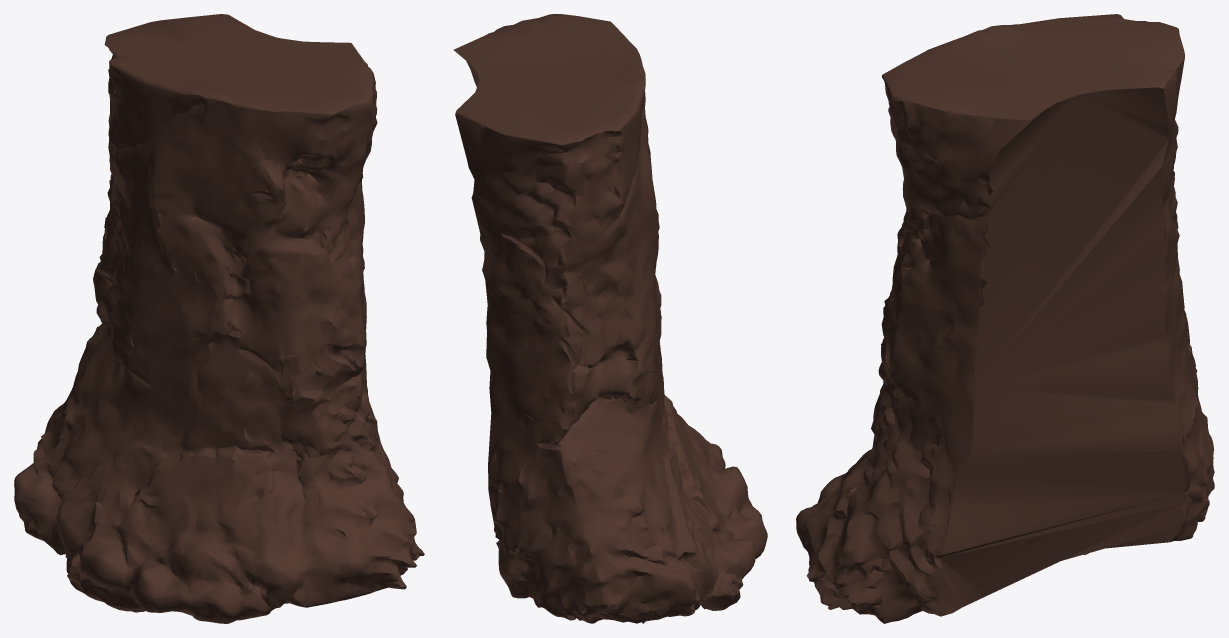
File: Wall_Bend_45In.fbx
3 renders of one model, left to right at view 1: azimuth 30°, elevation 25°; view 2: azimuth 150°, elevation 25°; view 3: azimuth 270°, elevation 25°, orthographic. The views are drawn at different scales.
Visible parts, largest first — view 1: Wall_Bend_45In; view 2: Wall_Bend_45In; view 3: Wall_Bend_45In.
Part boxes in pixels (x1,y1,x2,y2): Wall_Bend_45In: (14, 14, 424, 623); Wall_Bend_45In: (453, 14, 767, 623); Wall_Bend_45In: (796, 14, 1214, 623).
Size of the model in its own units: 987 by 1644 by 1150.
1 material, 1 textured.
